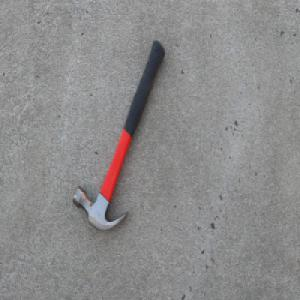Hammer: (72, 38, 166, 232)
